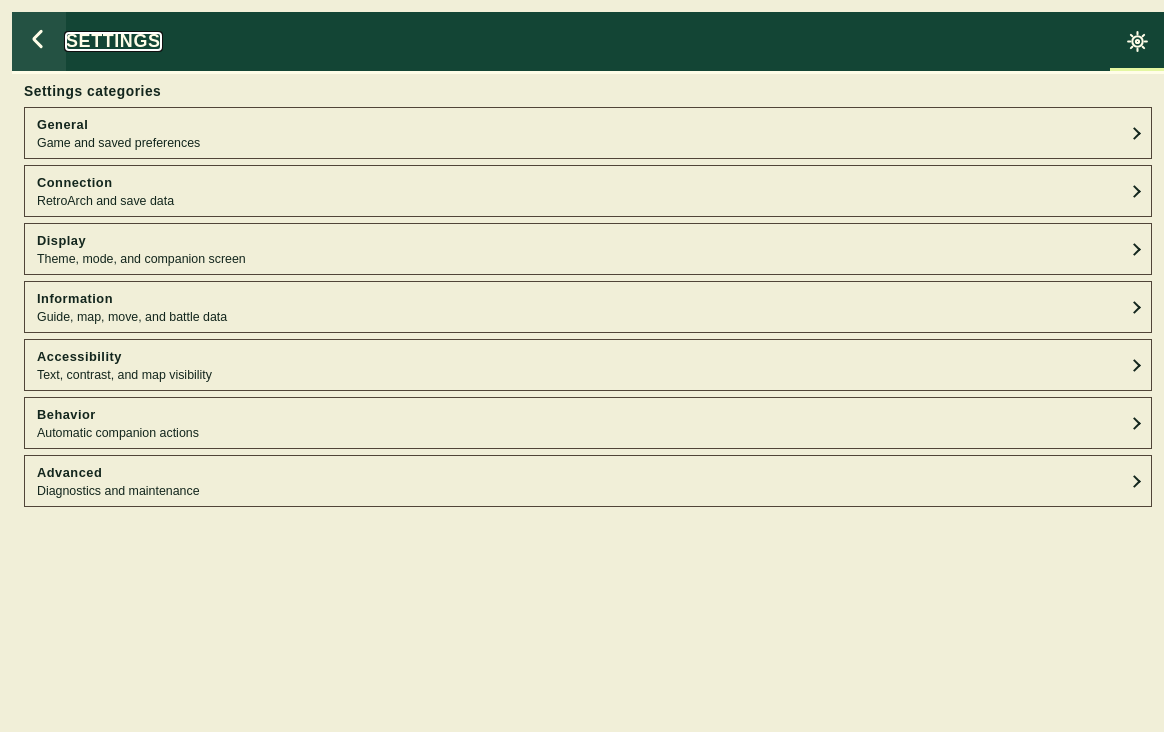
Settings navigation › preserves server-owned values while moving between categories
Click the button "Accessibility".
click(79, 356)  # box x1=24 y1=339 x2=1152 y2=391
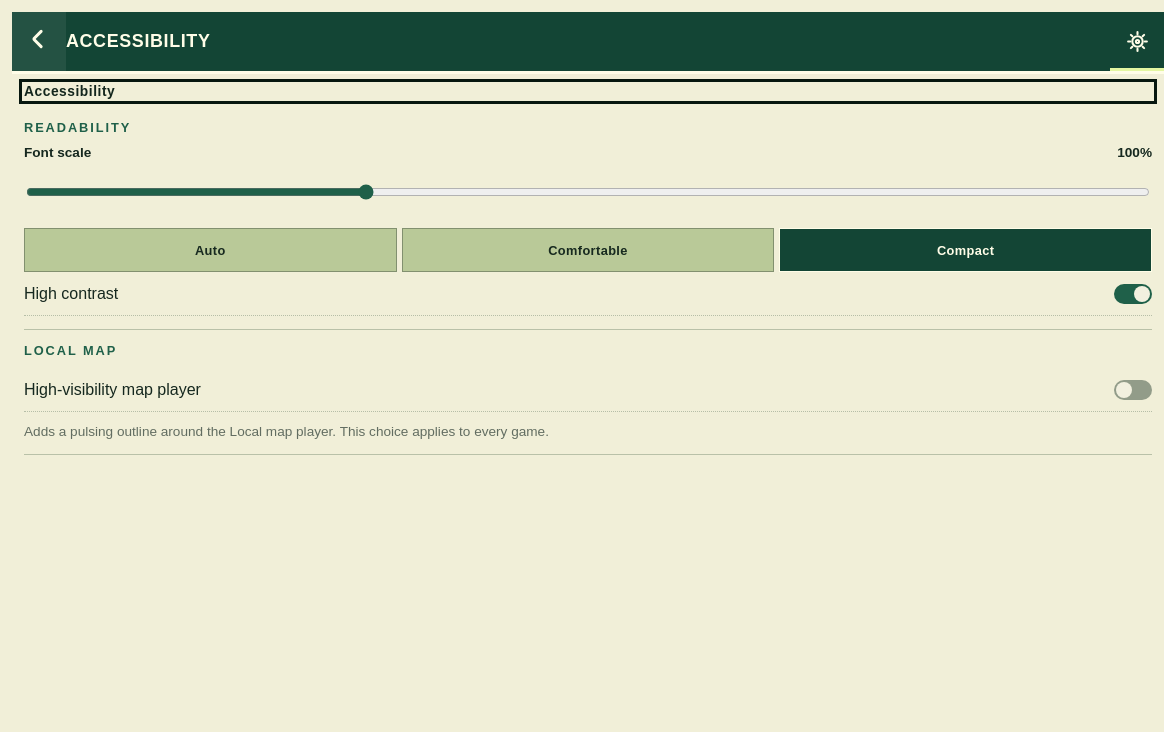
Check: the checkbox labelled "High contrast" is checked, box x1=24 y1=272 x2=1152 y2=316
Click the button named "Back".
click(39, 42)  # box x1=12 y1=12 x2=66 y2=71
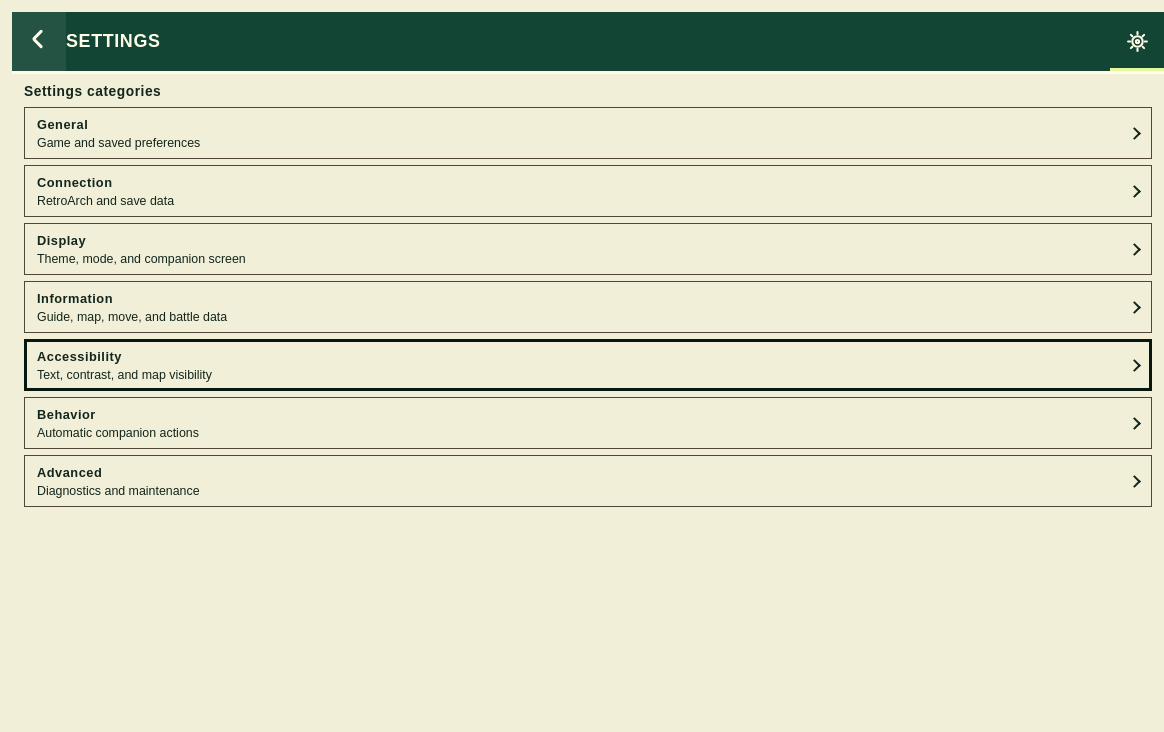
Click the button "Information".
click(75, 298)  # box x1=24 y1=281 x2=1152 y2=333
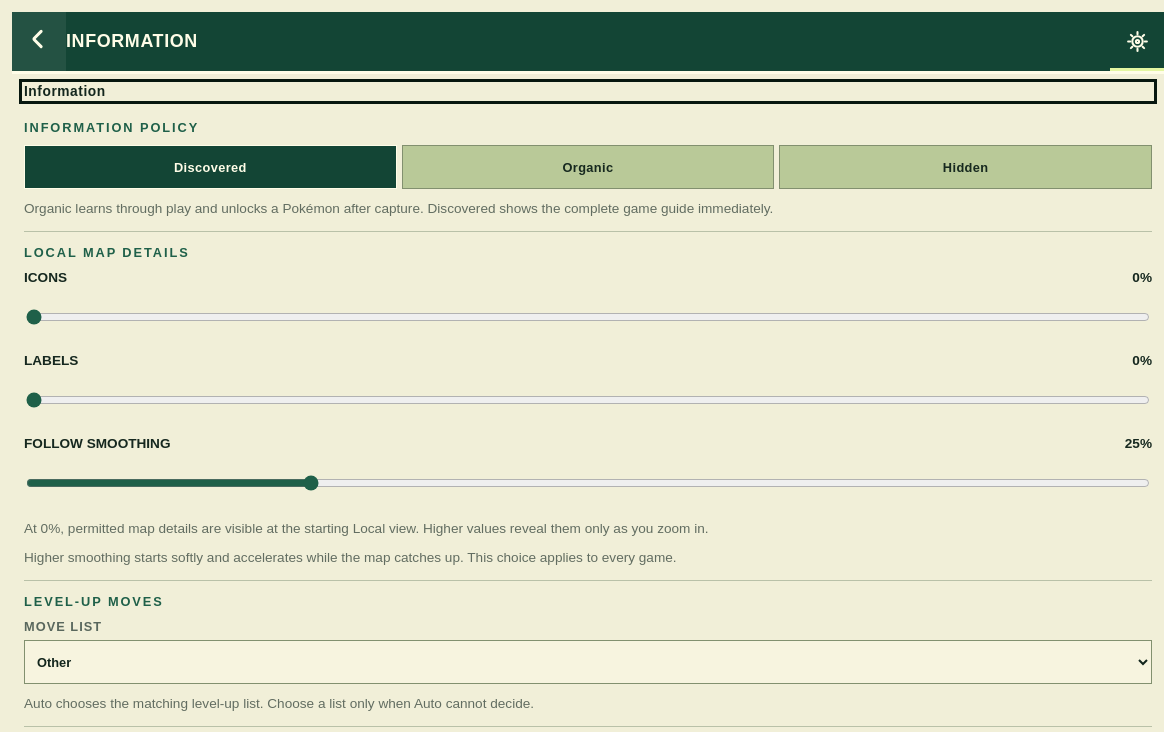
Check: the dropdown labelled "MOVE LIST" shows "Other", box x1=24 y1=640 x2=1152 y2=684
